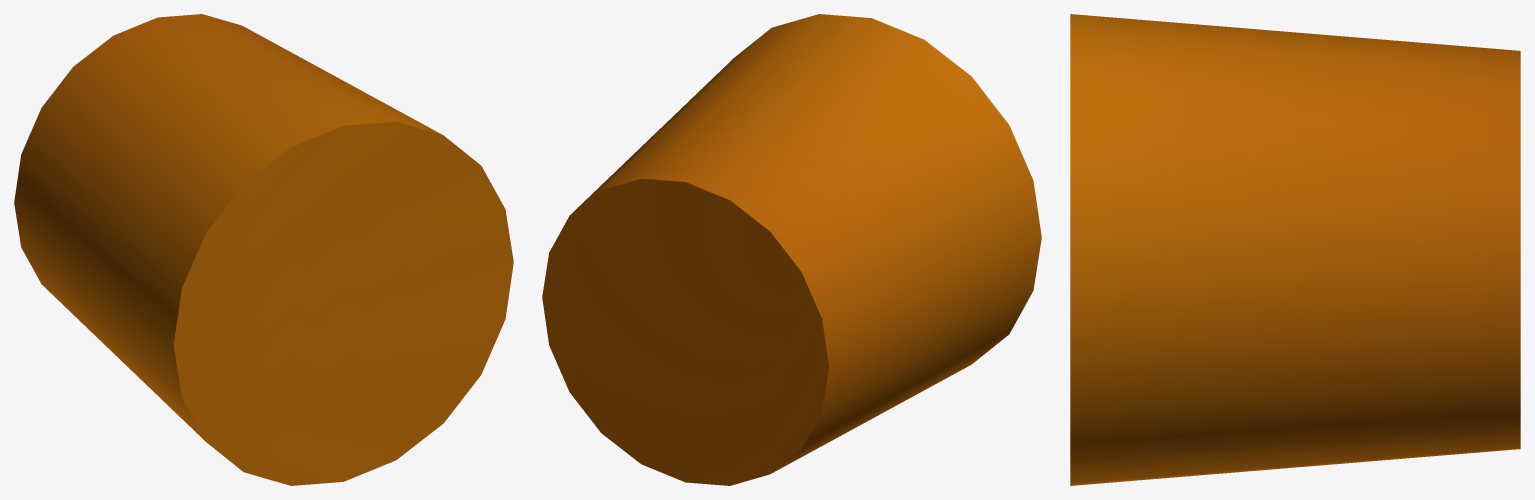
The model's file is carrot1_slices_3.fbx.
3 views of the same model, side by side, from view 1: azimuth 30°, elevation 25°; view 2: azimuth 150°, elevation 25°; view 3: azimuth 270°, elevation 25° (orthographic). The views are drawn at different scales.
Parts seen in each view (by area): view 1: carrot1_slices.003; view 2: carrot1_slices.003; view 3: carrot1_slices.003.
Part boxes in pixels (bbox=[...]): carrot1_slices.003: bbox=[14, 14, 513, 485]; carrot1_slices.003: bbox=[542, 14, 1041, 485]; carrot1_slices.003: bbox=[1070, 14, 1520, 485].
Bounding box in the file's own units: 83.77 × 83.77 × 79.33.
